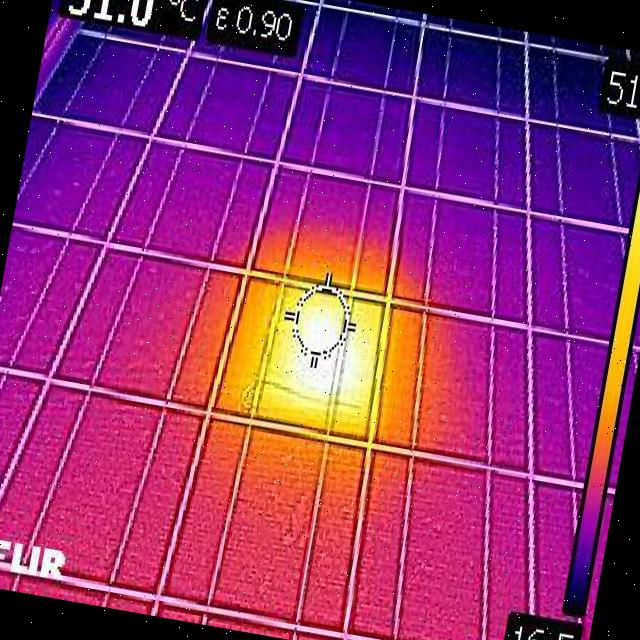Hotspot: (215, 276, 387, 444)
